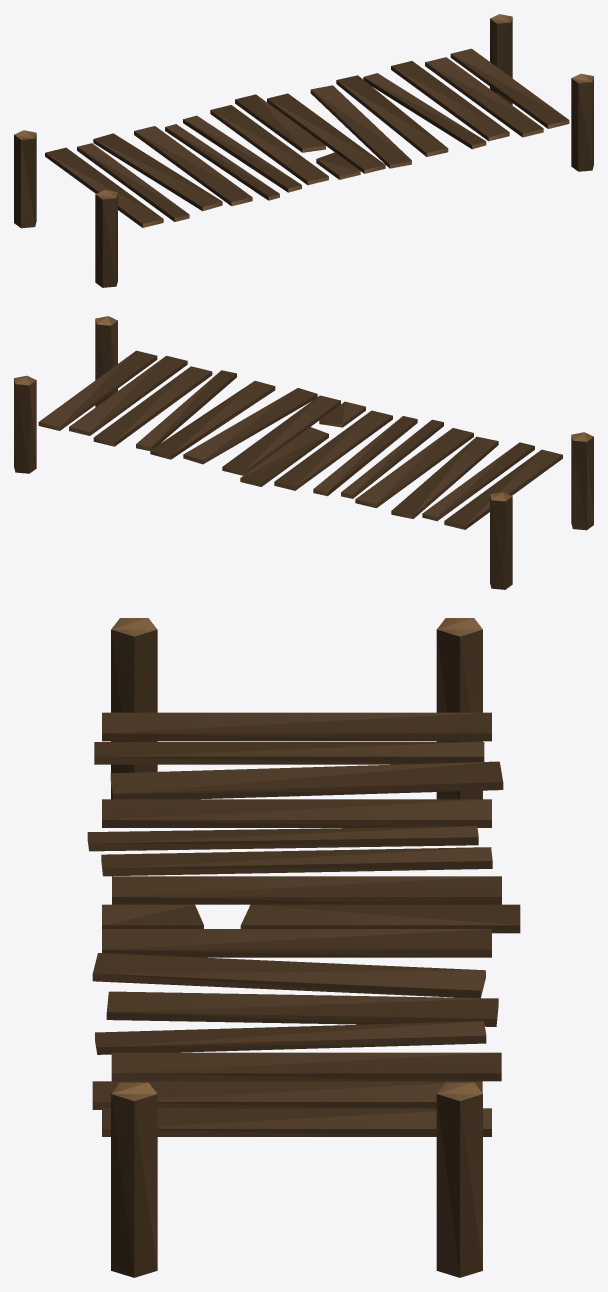
The model's file is Bridge_2_Lod1.fbx.
The picture shows the model from 3 angles, top to bottom: view 1: azimuth 30°, elevation 25°; view 2: azimuth 150°, elevation 25°; view 3: azimuth 270°, elevation 25°; orthographic projection. The views are drawn at different scales.
Visible parts, largest first — view 1: polySurface602; view 2: polySurface602; view 3: polySurface602.
Boxes of the visible parts, x1,y1,x2,y2 form: polySurface602: (14, 14, 593, 287); polySurface602: (14, 316, 593, 589); polySurface602: (87, 618, 520, 1277).
Bounding box in the file's own units: 1172 × 200 × 444.
1 material, 1 textured.
